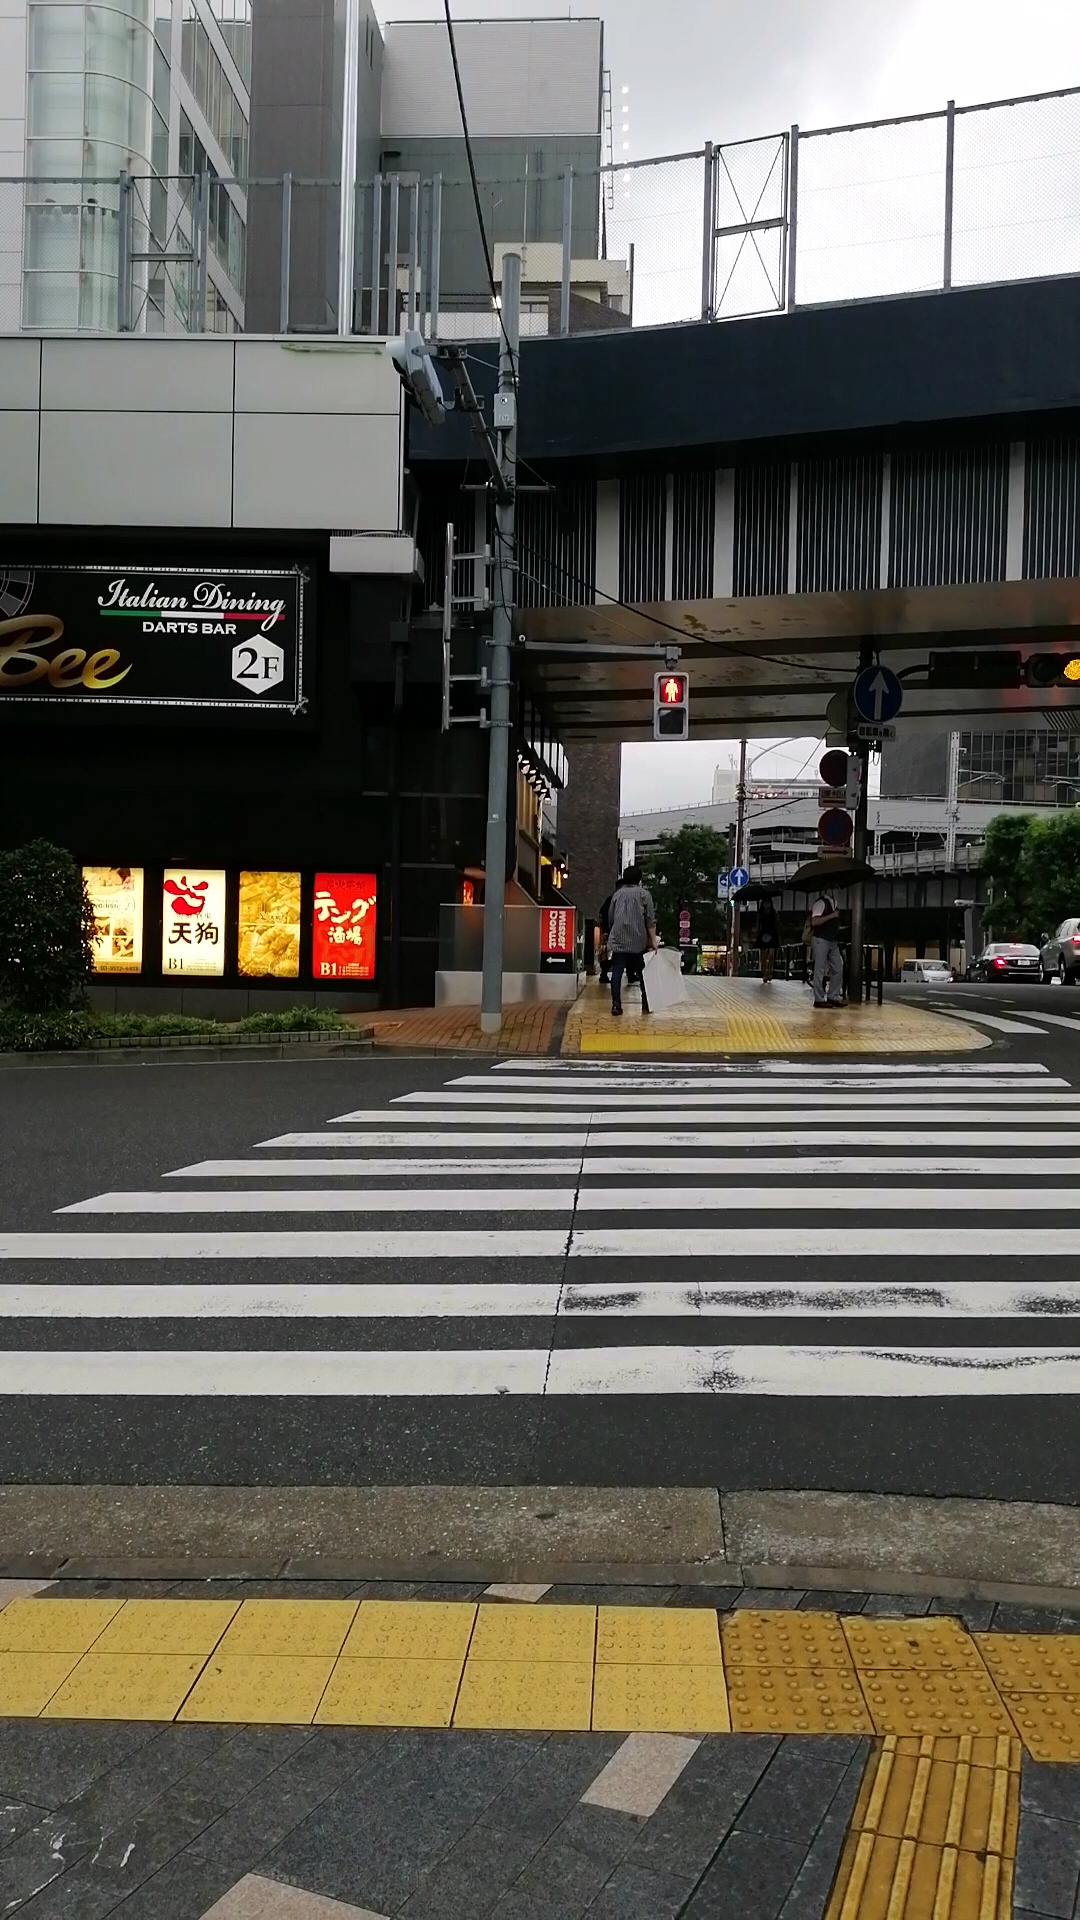red: (651, 667, 688, 741)
